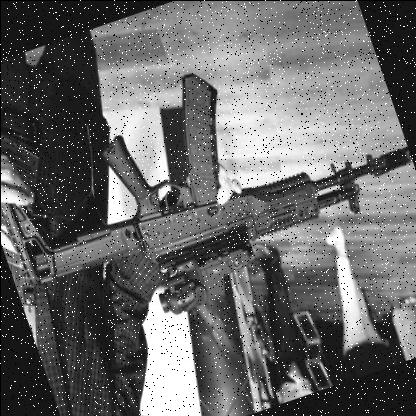rifle: (0, 0, 416, 342)
